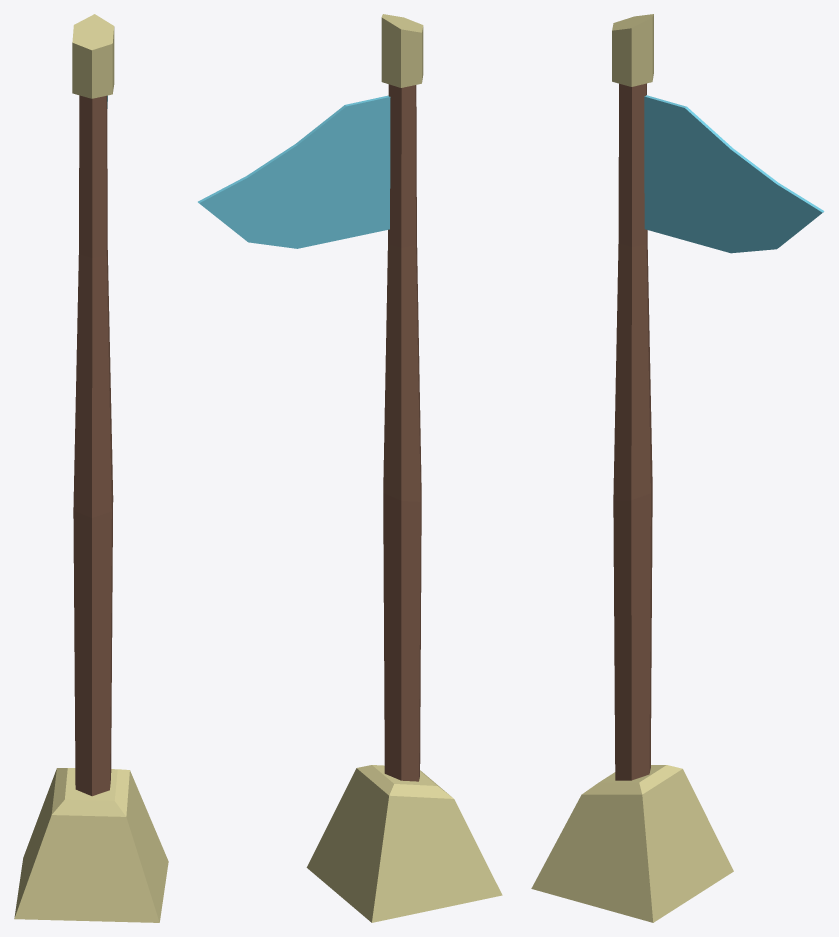
The model's file is Flag.glb.
3 renders of one model, left to right at view 1: azimuth 30°, elevation 25°; view 2: azimuth 150°, elevation 25°; view 3: azimuth 270°, elevation 25°, orthographic.
Parts seen in each view (by area): view 1: Flag; view 2: Flag; view 3: Flag.
Part boxes in pixels (x1=…): Flag: x1=14, y1=14, x2=168, y2=922; Flag: x1=198, y1=14, x2=502, y2=922; Flag: x1=531, y1=14, x2=824, y2=922.
Size of the model in its own units: 3.16 by 13.37 by 4.01.
